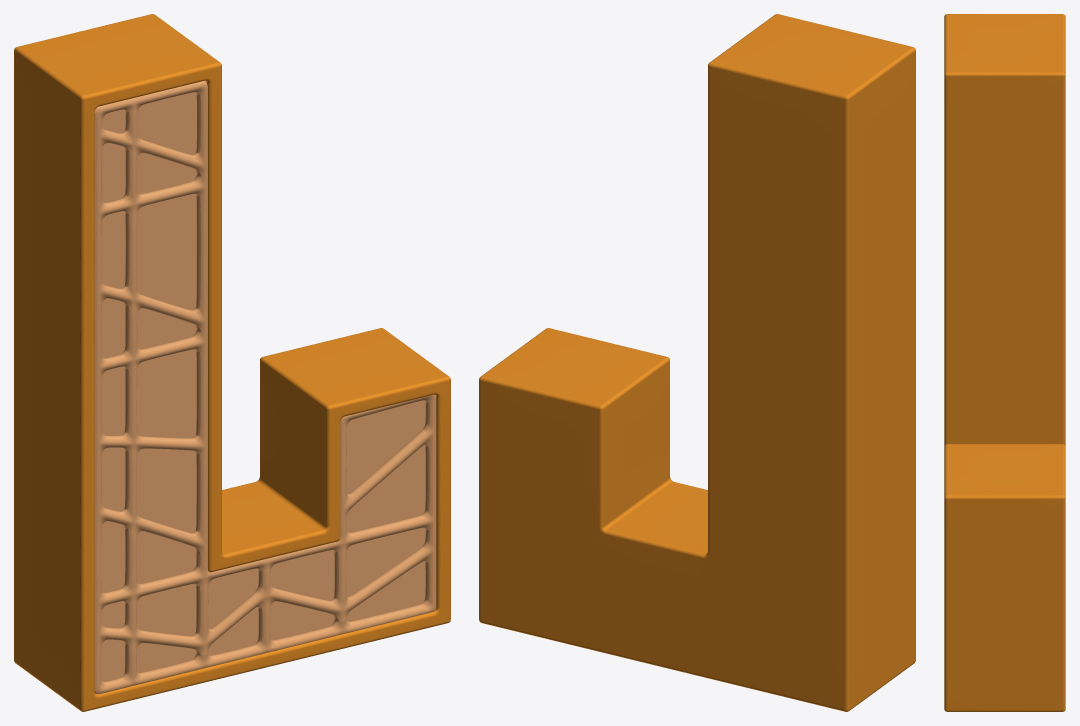
Rendered from L_nuevo.glb.
3 renders of one model, left to right at view 1: azimuth 30°, elevation 25°; view 2: azimuth 150°, elevation 25°; view 3: azimuth 270°, elevation 25°, orthographic. The views are drawn at different scales.
Visible parts, largest first — view 1: Text.012, Plane.014, Plane.039; view 2: Text.012; view 3: Text.012.
Boxes of the visible parts, x1,y1,x2,y2 form: Text.012: (14,14,450,711); Plane.014: (101,92,425,681); Plane.039: (94,80,436,694); Text.012: (479,14,915,711); Text.012: (944,14,1065,711).
Bounding box in the file's own units: 1.57 × 2.5 × 0.5091.
